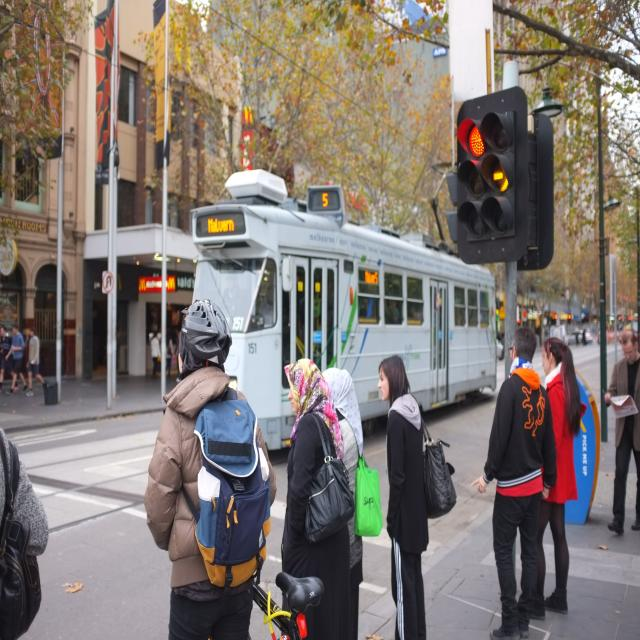Street Light: (532, 87, 610, 440)
